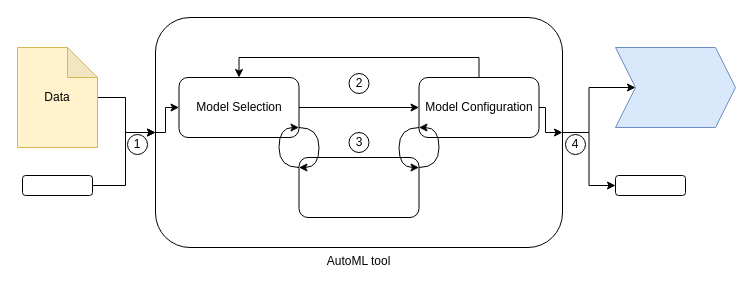
Image size: 753x286. Some labels were removed from this diagram. Each missing label, with the box of its shape:
Constraints: (22, 174, 92, 196)
Found Pipeline: (614, 46, 736, 128)
Model Evaluation: (298, 156, 419, 218)
Score: (614, 174, 686, 196)
